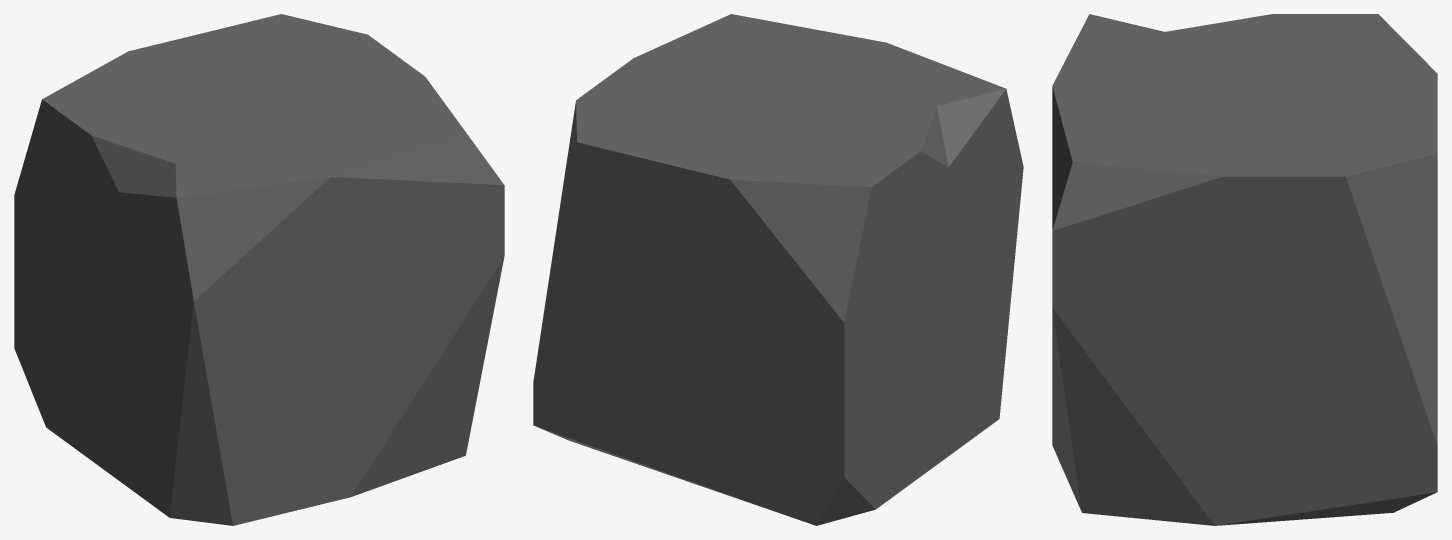
The model's file is Block_01.fbx.
3 views of the same model, side by side, from view 1: azimuth 30°, elevation 25°; view 2: azimuth 150°, elevation 25°; view 3: azimuth 270°, elevation 25° (orthographic). The views are drawn at different scales.
Parts seen in each view (by area): view 1: Block_01; view 2: Block_01; view 3: Block_01.
Part boxes in pixels (box(x1,y1,x2,y2)): Block_01: box(14, 14, 504, 525); Block_01: box(533, 14, 1023, 525); Block_01: box(1052, 14, 1437, 525).
Size of the model in its own units: 200 by 200 by 200.
